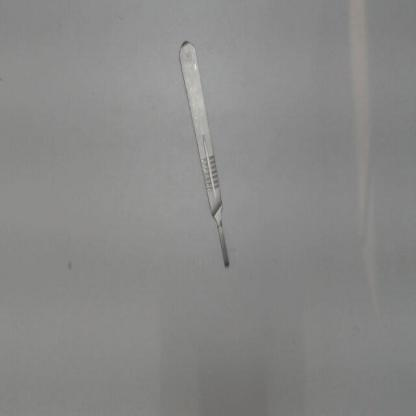No.4 BP Handle: (164, 27, 241, 279)
